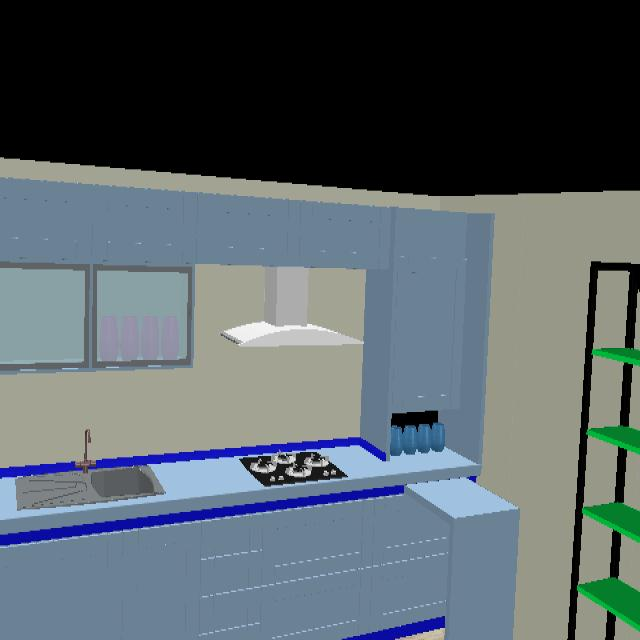cabinet: (0, 483, 458, 640)
countertop: (0, 437, 520, 628)
shelf: (568, 260, 640, 640)
sink: (13, 465, 160, 512)
stove: (238, 452, 347, 488)
